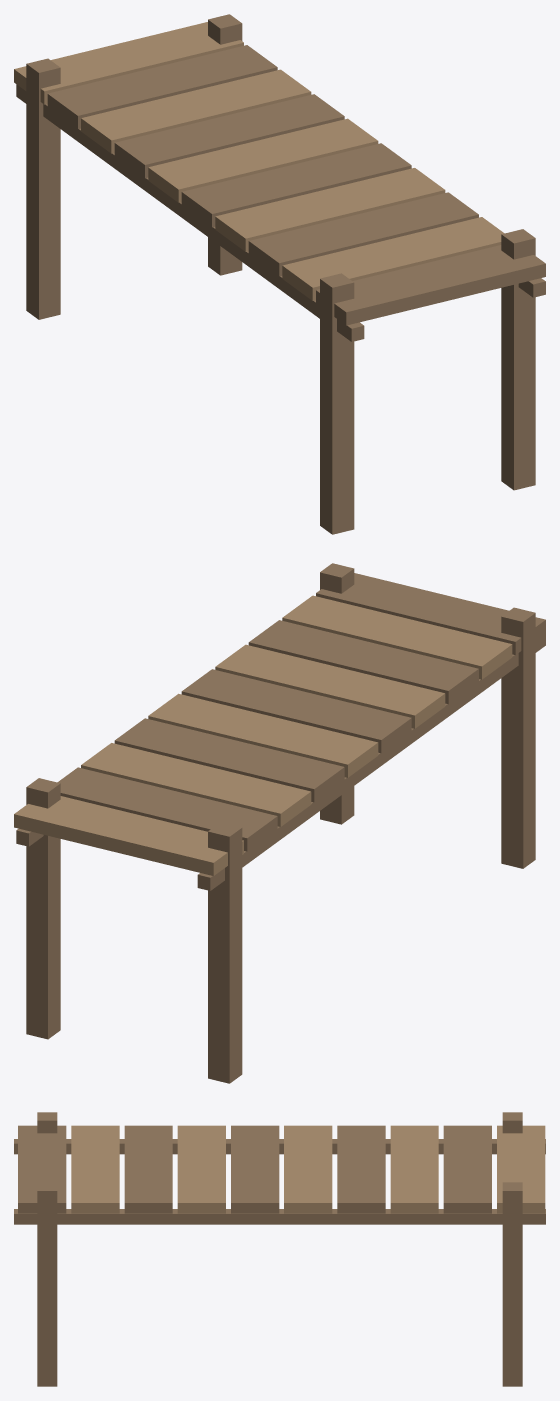
The model's file is dock_short.glb.
3 views of the same model, one above another, from view 1: azimuth 30°, elevation 25°; view 2: azimuth 150°, elevation 25°; view 3: azimuth 270°, elevation 25° (orthographic). The views are drawn at different scales.
Parts seen in each view (by area): view 1: dock_short; view 2: dock_short; view 3: dock_short.
Part boxes in pixels (x1,y1,x2,y2): dock_short: (14, 14, 545, 534); dock_short: (14, 563, 545, 1083); dock_short: (14, 1112, 545, 1386).
Bounding box in the file's own units: 1.12 × 1.3 × 3.2.
